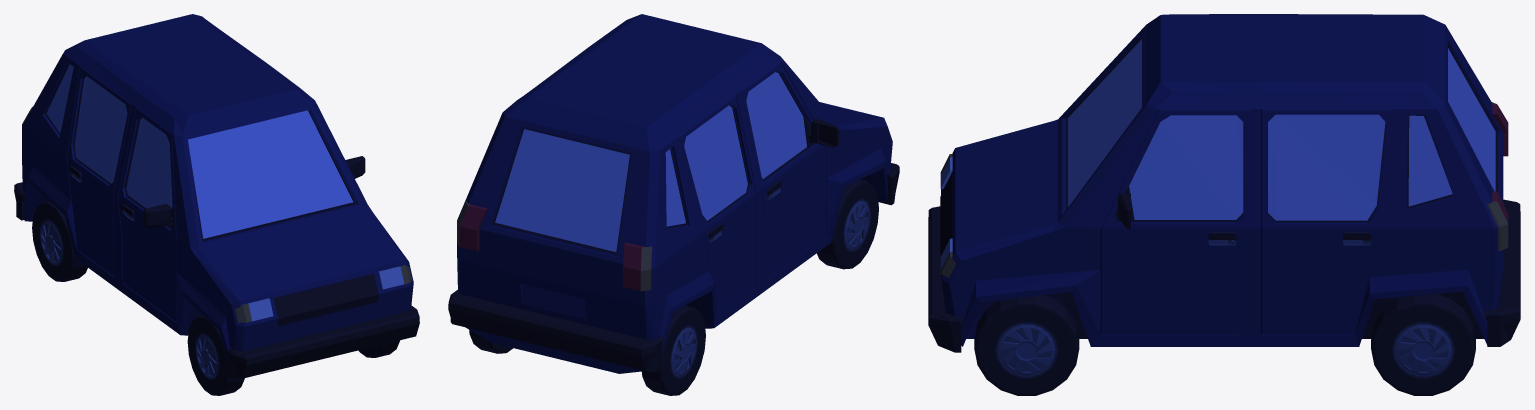
Rendered from car_chassis_test.dae.
3 views of the same model, side by side, from view 1: azimuth 30°, elevation 25°; view 2: azimuth 150°, elevation 25°; view 3: azimuth 270°, elevation 25° (orthographic). The views are drawn at different scales.
Parts seen in each view (by area): view 1: node; view 2: node; view 3: node.
Part boxes in pixels (<box>): node: <box>14,14,419,395</box>; node: <box>448,14,899,395</box>; node: <box>928,14,1520,395</box>.
Size of the model in its own units: 5.14 by 5.15 by 9.39.
